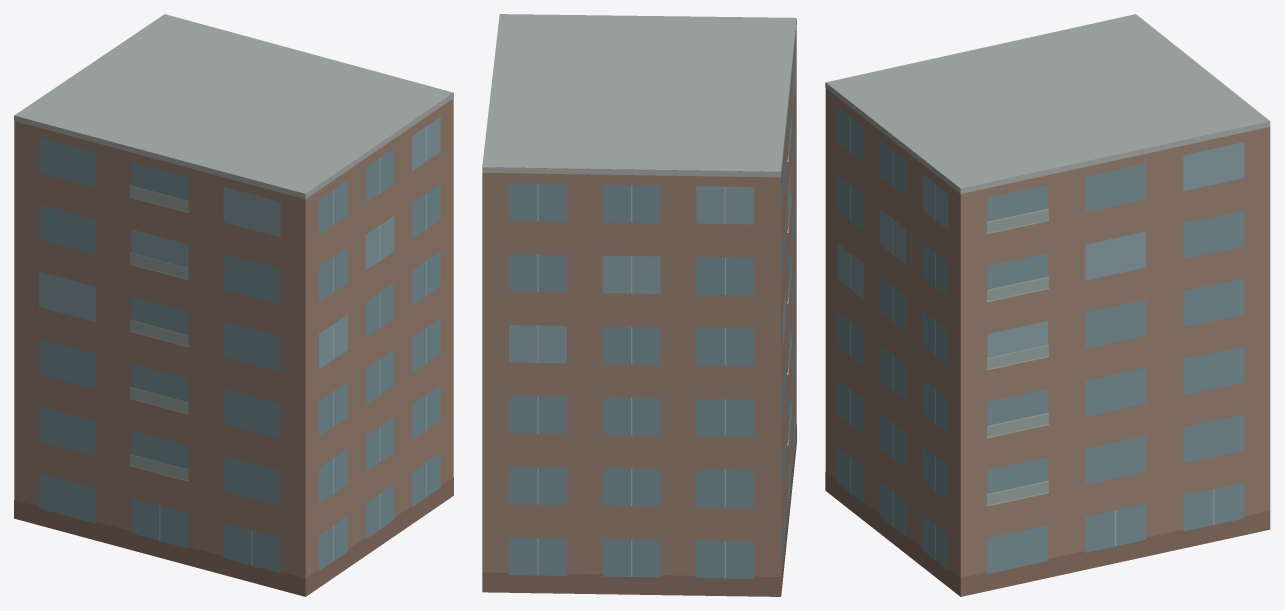
File: survey-upis-32740175.glb
3 views of the same model, side by side, from view 1: azimuth 30°, elevation 25°; view 2: azimuth 150°, elevation 25°; view 3: azimuth 270°, elevation 25° (orthographic). The views are drawn at different scales.
Visible parts, largest first — view 1: survey-upis-32740175.tmp; view 2: survey-upis-32740175.tmp; view 3: survey-upis-32740175.tmp.
Part boxes in pixels (left/top/right/bottom): survey-upis-32740175.tmp: left=14, top=14, right=453, bottom=596; survey-upis-32740175.tmp: left=482, top=14, right=796, bottom=596; survey-upis-32740175.tmp: left=825, top=14, right=1270, bottom=596.
Size of the model in its own units: 16.7 by 18.2 by 17.98.
